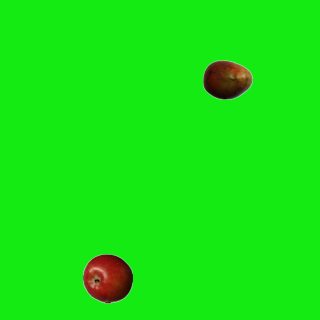Apple Braeburn: (82, 253, 132, 303)
Mango Red: (202, 54, 252, 104)
